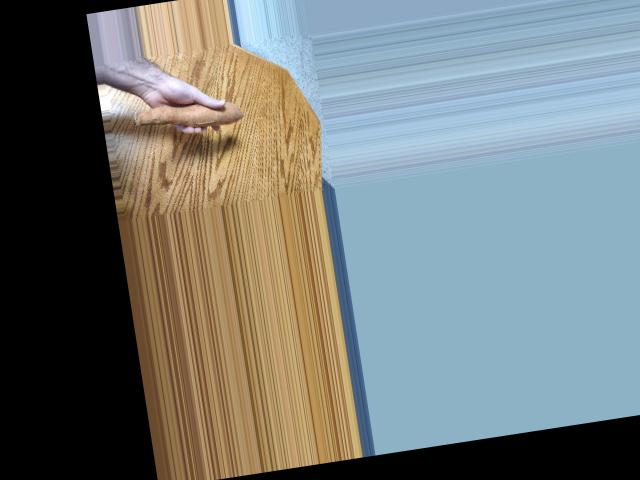sweet_potato: (129, 87, 250, 138)
